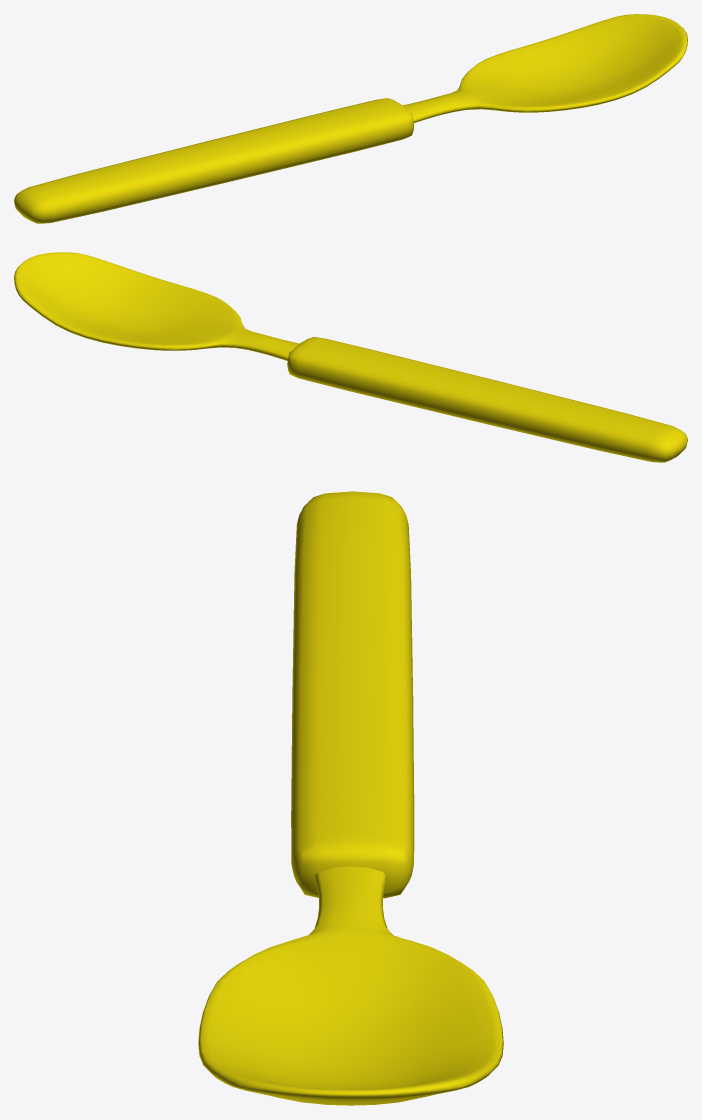
File: Spoon.fbx
3 views of the same model, one above another, from view 1: azimuth 30°, elevation 25°; view 2: azimuth 150°, elevation 25°; view 3: azimuth 270°, elevation 25° (orthographic). The views are drawn at different scales.
Parts seen in each view (by area): view 1: Spoon; view 2: Spoon; view 3: Spoon.
Part boxes in pixels (<box>): Spoon: <box>14,14,687,223</box>; Spoon: <box>14,252,687,462</box>; Spoon: <box>198,491,503,1105</box>.
Bounding box in the file's own units: 108 × 6.62 × 21.63.
